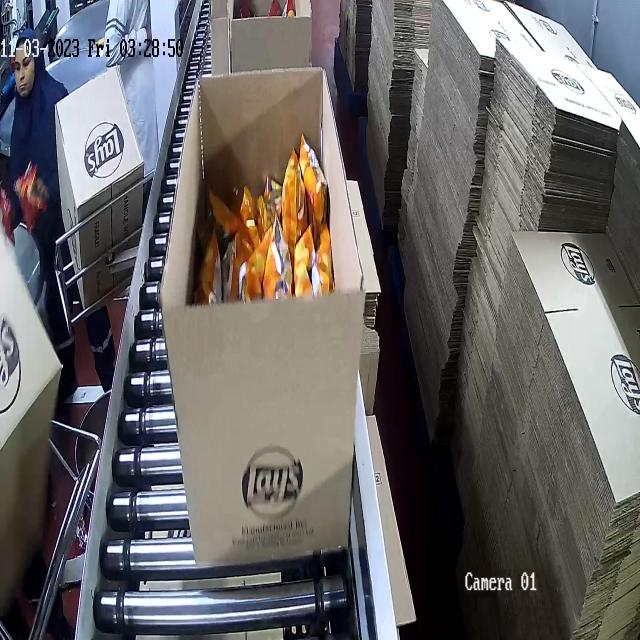FRENCH_CHEESE: (194, 163, 331, 299)
